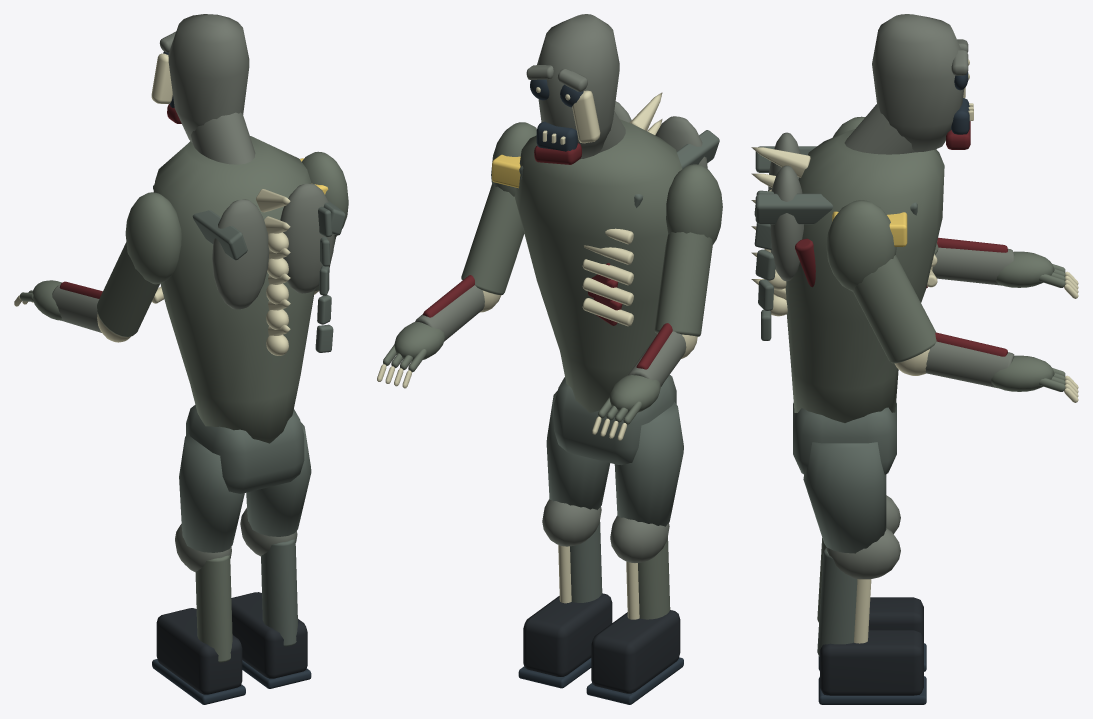
File: 11_zombie_runner.glb
3 views of the same model, side by side, from view 1: azimuth 30°, elevation 25°; view 2: azimuth 150°, elevation 25°; view 3: azimuth 270°, elevation 25° (orthographic). The views are drawn at different scales.
Visible parts, largest first — view 1: Ribcage, Scapula, Deltoid, Torn trousers, Thigh, Combat boot, Exposed cheekbone, Combat boot.001, Ragged harness, Tibia, Tibia.001, Thigh.001 (+7 smaller); view 2: Ribcage, Scapula, Deltoid, Thigh, Combat boot, Deltoid.001, Combat boot.001, Exposed cheekbone, Torn trousers, Thigh.001, Exposed knee.001, Exposed knee (+16 smaller); view 3: Ribcage, Scapula, Deltoid.001, Thigh.001, Combat boot.001, Ragged harness, Torn trousers, Tibia.001, Forearm.001, Forearm, Exposed cheekbone, Exposed knee.001 (+11 smaller).
Part boxes in pixels (<box>): Ribcage: <box>153,136,314,443</box>; Scapula: <box>159,14,334,309</box>; Deltoid: <box>97,192,181,337</box>; Torn trousers: <box>186,405,304,493</box>; Thigh: <box>179,433,244,552</box>; Combat boot: <box>156,608,242,694</box>; Exposed cheekbone: <box>151,53,290,355</box>; Combat boot.001: <box>231,592,307,678</box>; Ragged harness: <box>153,184,345,352</box>; Tibia: <box>195,555,232,662</box>; Tibia.001: <box>261,539,297,646</box>; Thigh.001: <box>246,422,311,536</box>; Ribcage: <box>515,119,682,412</box>; Scapula: <box>526,14,707,168</box>; Deltoid: <box>654,164,722,336</box>; Thigh: <box>614,402,683,526</box>; Combat boot: <box>591,610,680,693</box>; Deltoid.001: <box>461,122,536,295</box>; Combat boot.001: <box>523,593,612,676</box>; Exposed cheekbone: <box>536,87,662,326</box>; Torn trousers: <box>554,375,676,464</box>; Thigh.001: <box>546,391,610,509</box>; Exposed knee.001: <box>542,499,601,546</box>; Exposed knee: <box>610,516,669,562</box>; Ribcage: <box>785,129,944,422</box>; Scapula: <box>768,14,968,281</box>; Deltoid.001: <box>826,200,936,363</box>; Thigh.001: <box>803,442,886,553</box>; Combat boot.001: <box>820,630,923,695</box>; Ragged harness: <box>754,146,917,340</box>; Torn trousers: <box>793,402,896,474</box>; Tibia.001: <box>817,548,857,656</box>; Forearm.001: <box>925,341,1014,388</box>; Forearm: <box>932,247,1014,285</box>; Exposed cheekbone: <box>751,59,973,316</box>; Exposed knee.001: <box>826,528,900,579</box>.
Size of the model in its own units: 0.6973 by 1.75 by 0.7882.
